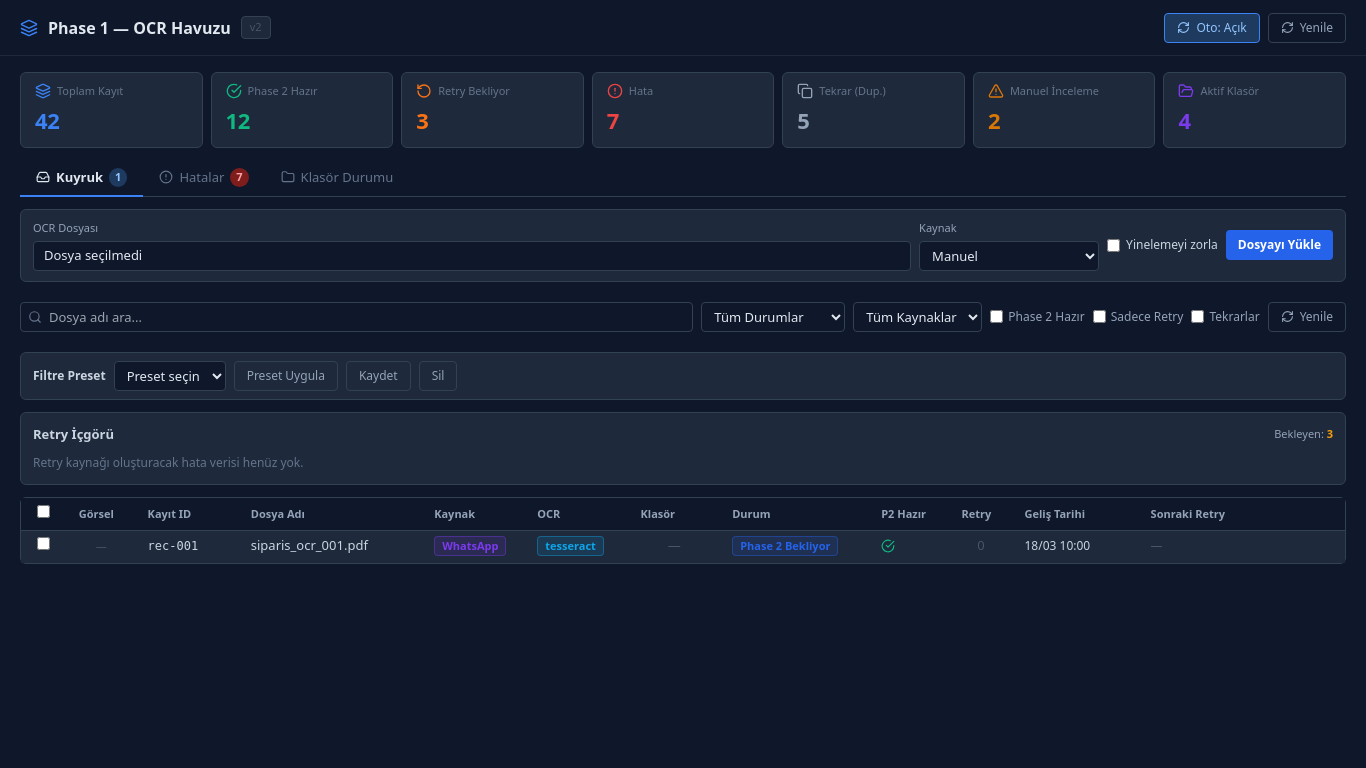
Phase1QueuePage › Hatalar sekmesi dolu olunca kayıt listesini görüntüler
Expected: the text "Phase 1 — OCR Havuzu" is shown, [48,16,231,40]
What coordinates should you click on to do the following:
click the button "Hatalar 7"
I would click on:
 (204, 178)
Its box is [143,160,265,197].
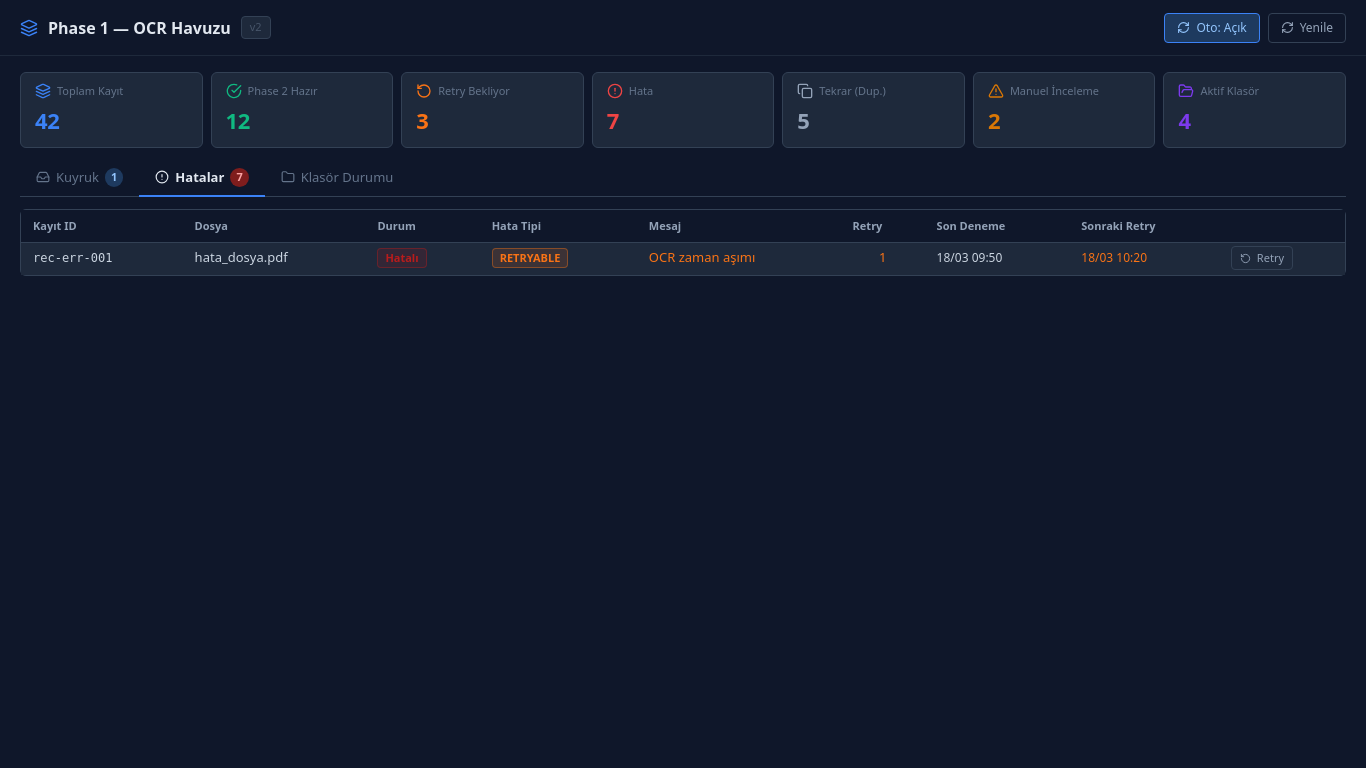
Now the text "hata_dosya.pdf" is shown, box [183,242,365,274]
Now the text "OCR zaman aşımı" is shown, box [637,242,841,274]
